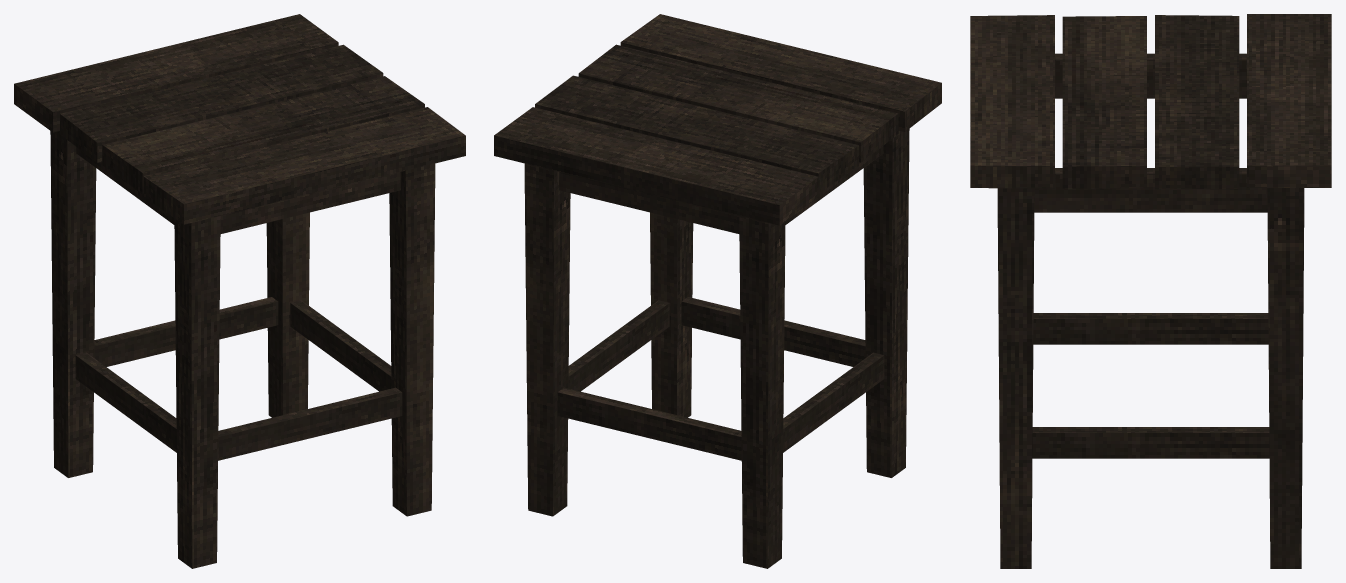
Rendered from chair_mp_1_2.glb.
3 views of the same model, side by side, from view 1: azimuth 30°, elevation 25°; view 2: azimuth 150°, elevation 25°; view 3: azimuth 270°, elevation 25° (orthographic). The views are drawn at different scales.
Visible parts, largest first — view 1: chair_mp_1_2; view 2: chair_mp_1_2; view 3: chair_mp_1_2.
Boxes of the visible parts, <box> form: chair_mp_1_2: <box>14,14,465,568</box>; chair_mp_1_2: <box>494,14,941,568</box>; chair_mp_1_2: <box>970,14,1331,568</box>.
Size of the model in its own units: 0.4707 by 0.594 by 0.47.
Materials: 1 (1 with a texture image).
